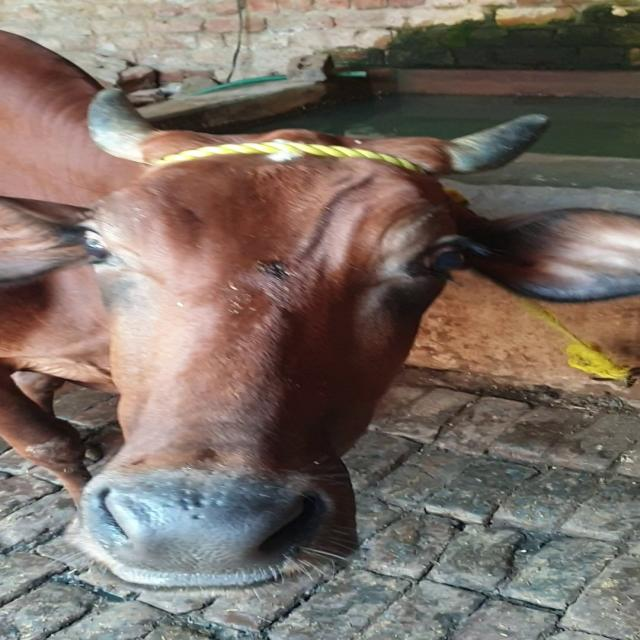cowFace: (89, 119, 419, 578)
